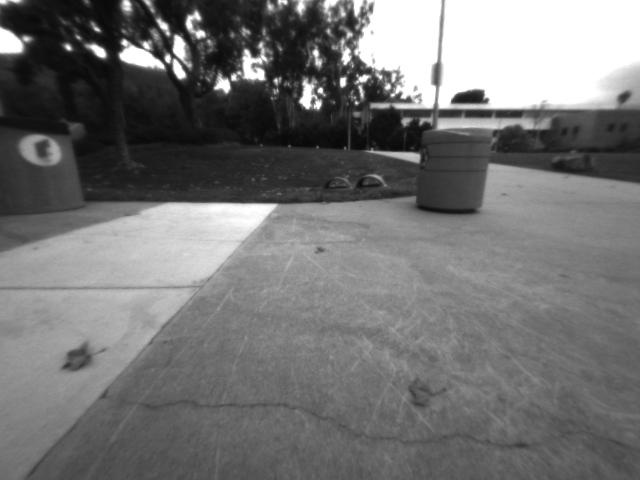trashcan: (1, 105, 90, 221), (409, 117, 502, 221)
